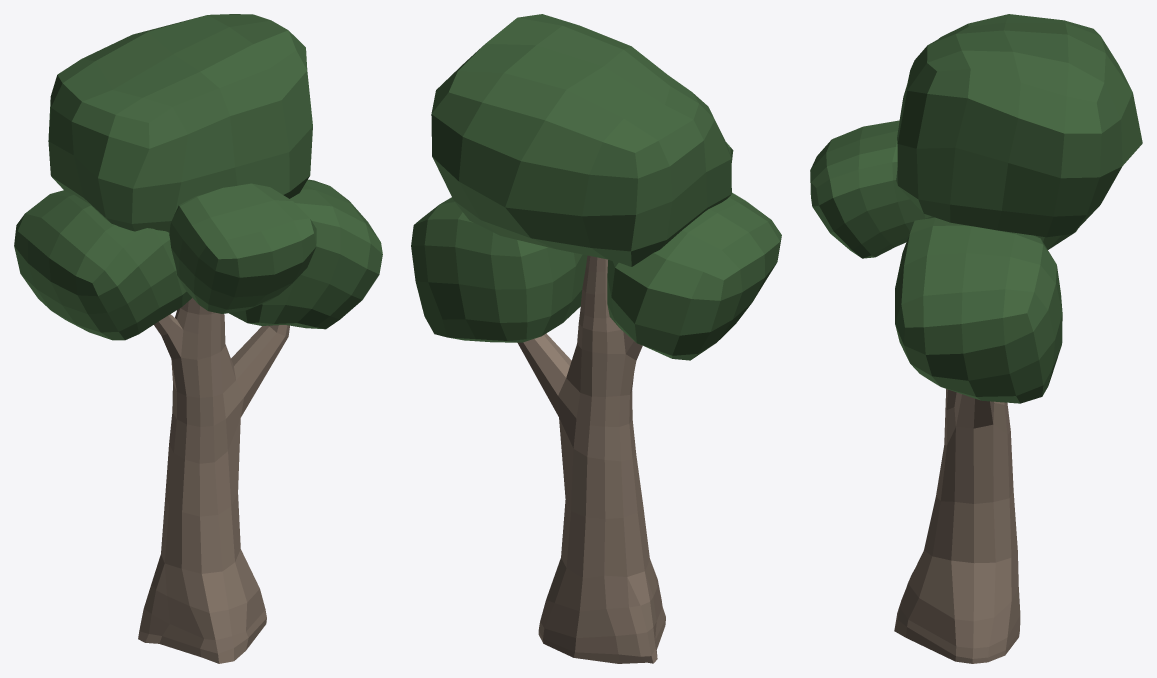
The model's file is tree 1.fbx.
3 renders of one model, left to right at view 1: azimuth 30°, elevation 25°; view 2: azimuth 150°, elevation 25°; view 3: azimuth 270°, elevation 25°, orthographic. The views are drawn at different scales.
Parts seen in each view (by area): view 1: trunk; view 2: trunk; view 3: trunk.
Boxes of the visible parts, bbox=[...] form: trunk: bbox=[14, 14, 382, 663]; trunk: bbox=[411, 14, 781, 663]; trunk: bbox=[810, 14, 1142, 663].
Size of the model in its own units: 134 by 234 by 116.
